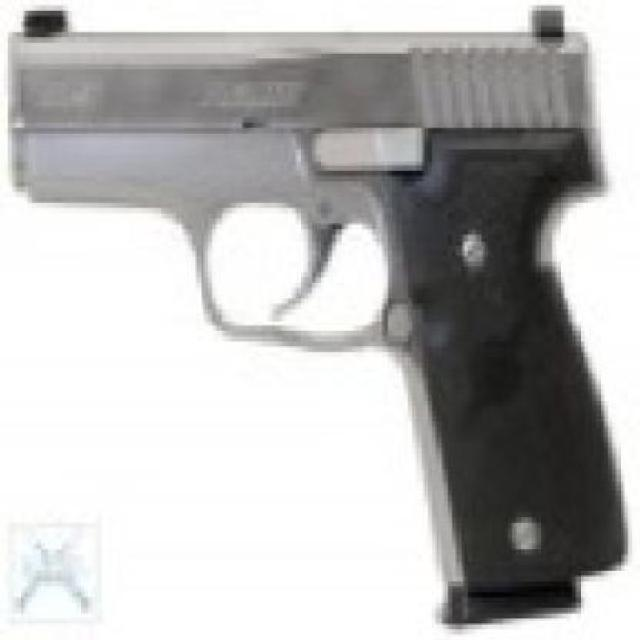gun: (4, 5, 628, 624)
